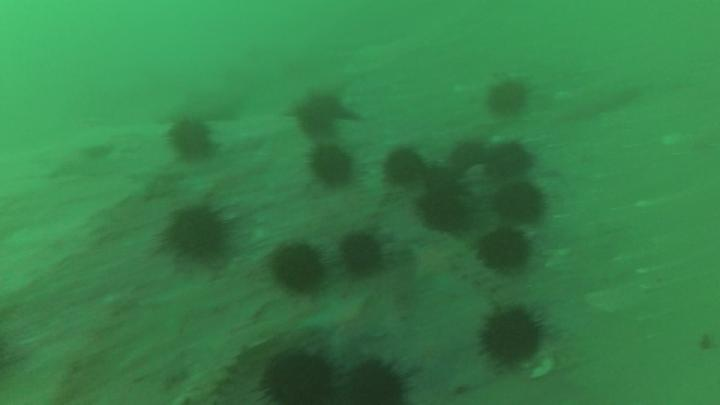echinus: (164, 210, 226, 263), (265, 358, 330, 405), (482, 309, 539, 362), (479, 230, 529, 276), (272, 246, 322, 291), (353, 362, 405, 405), (492, 185, 545, 226), (298, 96, 344, 139), (339, 233, 384, 276), (420, 193, 468, 232), (483, 142, 533, 176), (169, 124, 213, 160), (313, 148, 353, 185), (386, 149, 422, 186), (489, 85, 529, 113), (426, 163, 459, 195), (449, 142, 486, 170)
holothurian: (440, 243, 518, 307), (558, 82, 643, 121), (362, 147, 386, 213)
starfish: (305, 294, 388, 353), (409, 245, 454, 277)
